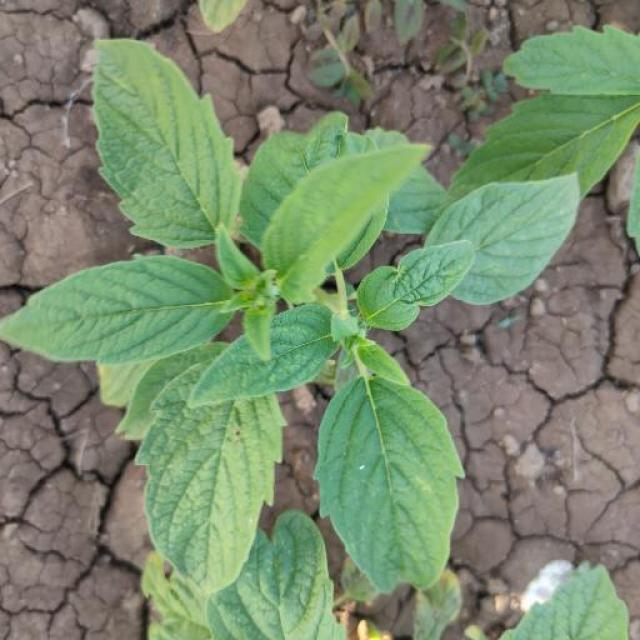crop: (1, 48, 600, 602)
